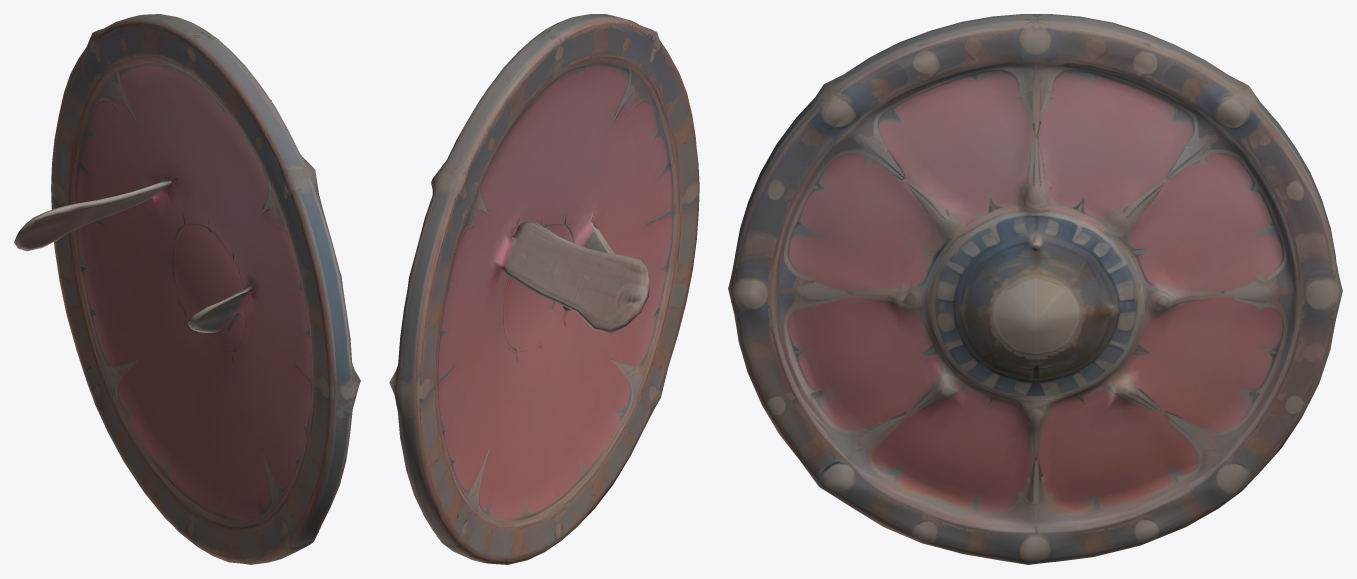
Rendered from shield.glb.
The picture shows the model from 3 angles, left to right: view 1: azimuth 30°, elevation 25°; view 2: azimuth 150°, elevation 25°; view 3: azimuth 270°, elevation 25°; orthographic projection. The views are drawn at different scales.
Visible parts, largest first — view 1: tripo_node_b8efc694-6743-40a2-9403-55347d7b6e65; view 2: tripo_node_b8efc694-6743-40a2-9403-55347d7b6e65; view 3: tripo_node_b8efc694-6743-40a2-9403-55347d7b6e65.
Part boxes in pixels (x1,y1,x2,y2): tripo_node_b8efc694-6743-40a2-9403-55347d7b6e65: [14, 14, 360, 564]; tripo_node_b8efc694-6743-40a2-9403-55347d7b6e65: [389, 14, 699, 564]; tripo_node_b8efc694-6743-40a2-9403-55347d7b6e65: [728, 14, 1342, 564].
Bounding box in the file's own units: 0.3924 × 0.9218 × 0.9446.
1 material, 1 textured.
